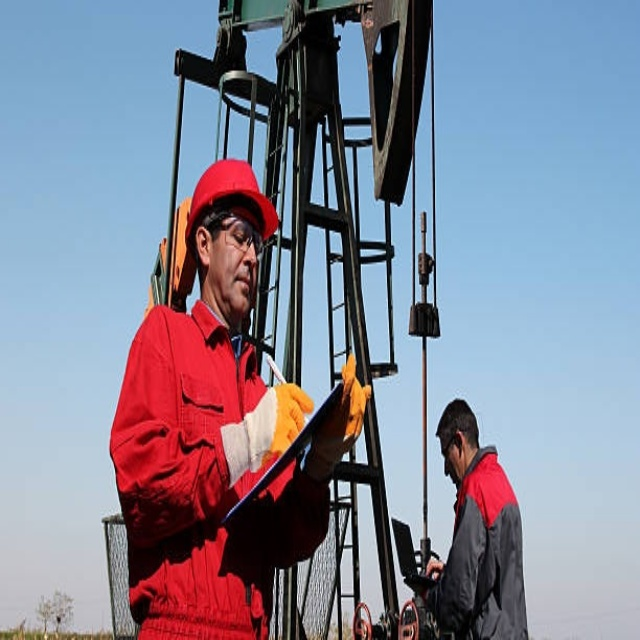Gafas: (205, 213, 265, 261), (441, 433, 460, 469)
Guantes: (260, 377, 316, 471), (332, 350, 373, 453)
Sin_guantes: (424, 551, 444, 580)
Sin_mascara: (225, 266, 254, 301)
